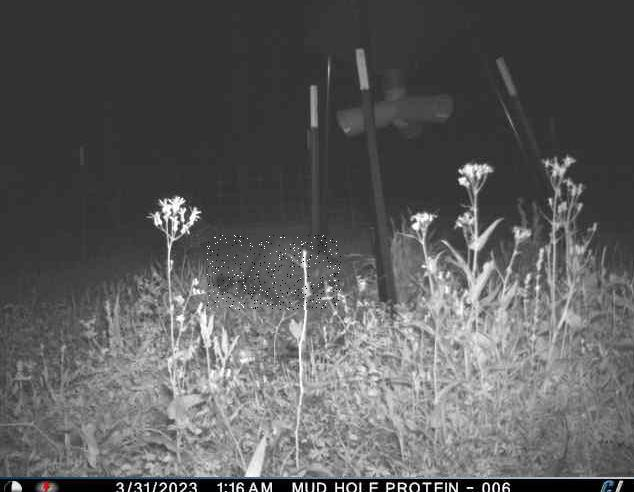Raccoon: (208, 236, 342, 311)
